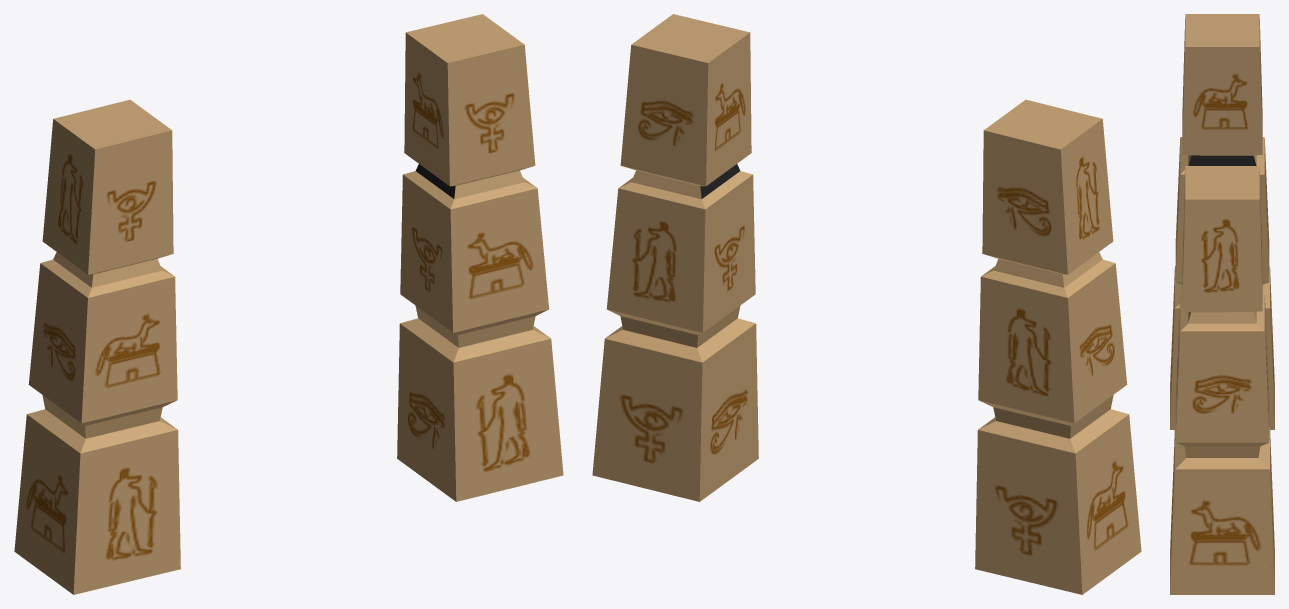
Rendered from arcobase.fbx.
3 views of the same model, side by side, from view 1: azimuth 30°, elevation 25°; view 2: azimuth 150°, elevation 25°; view 3: azimuth 270°, elevation 25° (orthographic). The views are drawn at different scales.
Visible parts, largest first — view 1: arcobase; view 2: arcobase; view 3: arcobase.
Part boxes in pixels (<box>): arcobase: <box>14,14,563,594</box>; arcobase: <box>592,14,1141,594</box>; arcobase: <box>1170,14,1274,594</box>.
Bounding box in the file's own units: 974 × 821 × 204.
